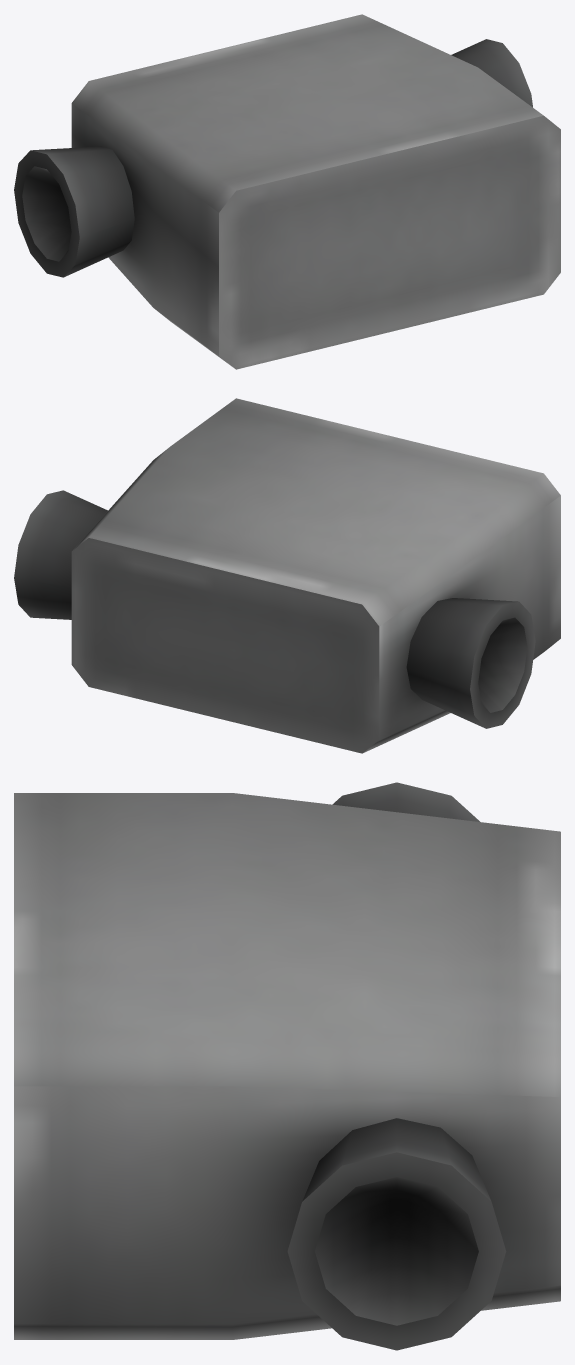
Rendered from octans_moe_srf_2.obj.
The picture shows the model from 3 angles, top to bottom: view 1: azimuth 30°, elevation 25°; view 2: azimuth 150°, elevation 25°; view 3: azimuth 270°, elevation 25°; orthographic projection. The views are drawn at different scales.
Parts seen in each view (by area): view 1: mesh; view 2: mesh; view 3: mesh.
Part boxes in pixels (x1,y1,x2,y2): mesh: (14,14,560,369); mesh: (14,398,560,753); mesh: (14,782,560,1350).
Bounding box in the file's own units: 0.2 × 0.075 × 0.125.
1 material, 1 textured.
